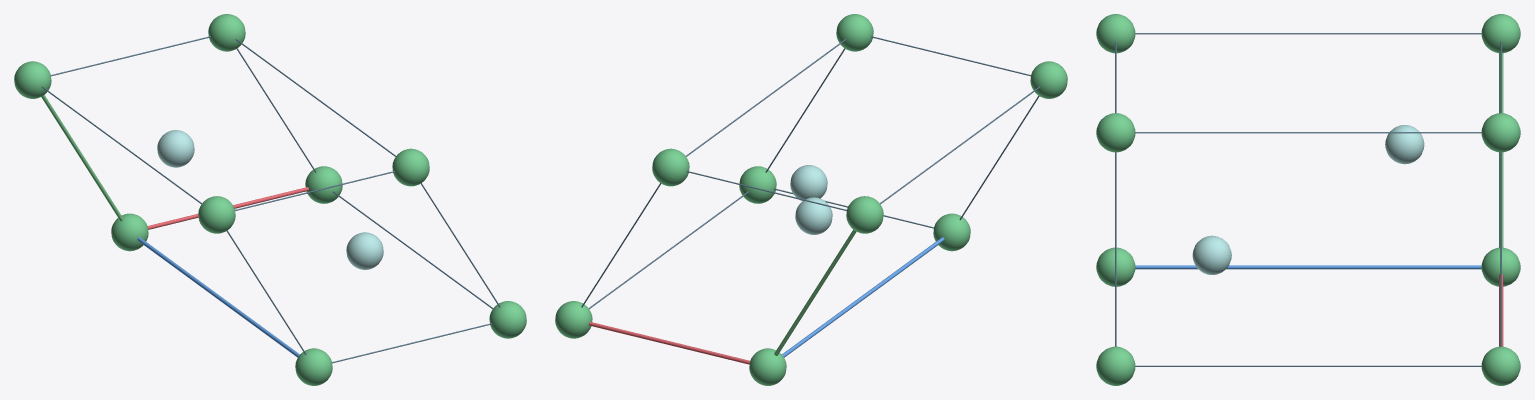
File: chat-magnesium-bromide.glb
3 renders of one model, left to right at view 1: azimuth 30°, elevation 25°; view 2: azimuth 150°, elevation 25°; view 3: azimuth 270°, elevation 25°, orthographic. The views are drawn at different scales.
Parts seen in each view (by area): view 1: Mg · Mg · 1 (×8), Ô mạng và các trục a, b, c, Br · Br · 1 (×2); view 2: Mg · Mg · 1 (×8), Ô mạng và các trục a, b, c, Br · Br · 1 (×2); view 3: Mg · Mg · 1 (×8), Ô mạng và các trục a, b, c, Br · Br · 1 (×2).
Part boxes in pixels (x1,y1,x2,y2): Mg · Mg · 1 (×8): [14, 14, 526, 385]; Ô mạng và các trục a, b, c: [41, 36, 500, 363]; Br · Br · 1 (×2): [157, 130, 383, 269]; Mg · Mg · 1 (×8): [555, 14, 1067, 385]; Ô mạng và các trục a, b, c: [581, 36, 1040, 364]; Br · Br · 1 (×2): [790, 165, 832, 234]; Mg · Mg · 1 (×8): [1096, 14, 1520, 385]; Ô mạng và các trục a, b, c: [1115, 33, 1503, 366]; Br · Br · 1 (×2): [1192, 125, 1424, 274].
Size of the model in its own units: 6.35 by 3.94 by 6.9.
